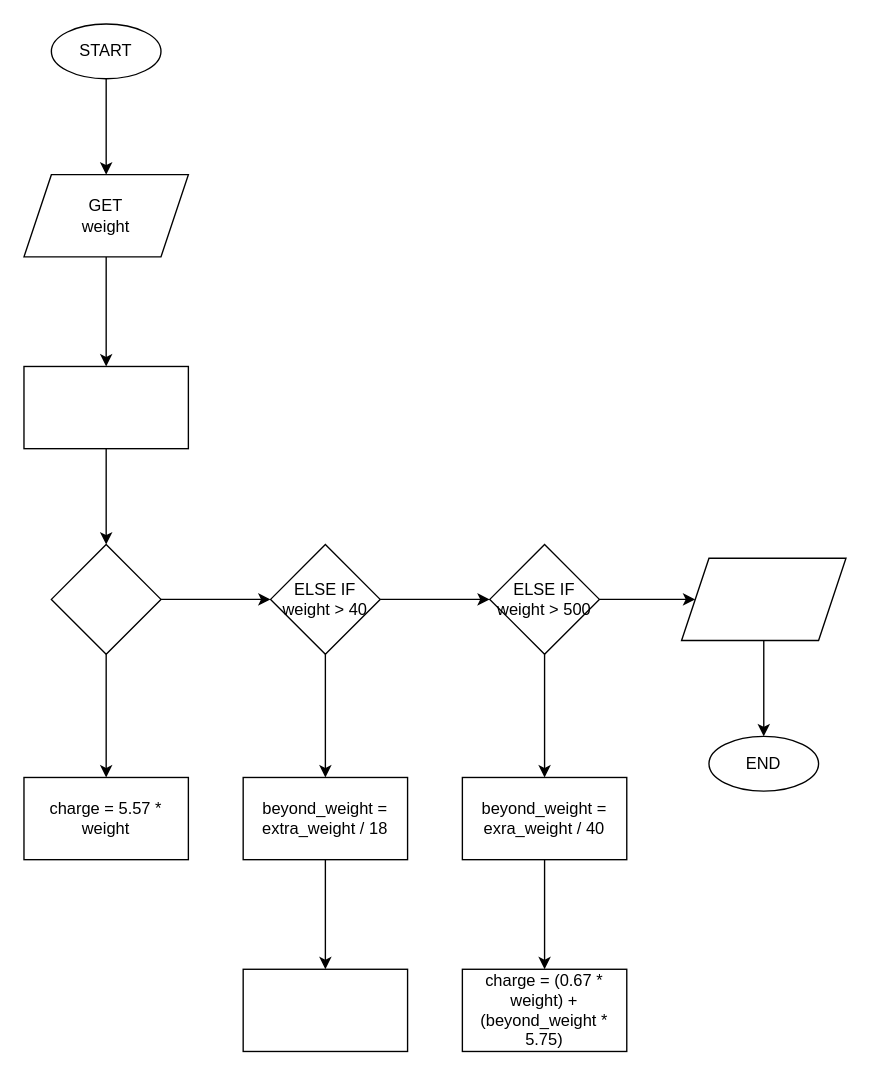
Image size: 870x1075. Some labels were removed from this diagram. Here are the shapes that lost their labels. From the top down, the centre of each, then its label:
the point at 105,407: extra_weight = weight - 40
the point at 105,598: IF weight <= 40
the point at 763,598: PRINT "your charge is =" + charge
the point at 325,1009: charge = (5.75 * 40) + (beyond_weight * 3.88)
